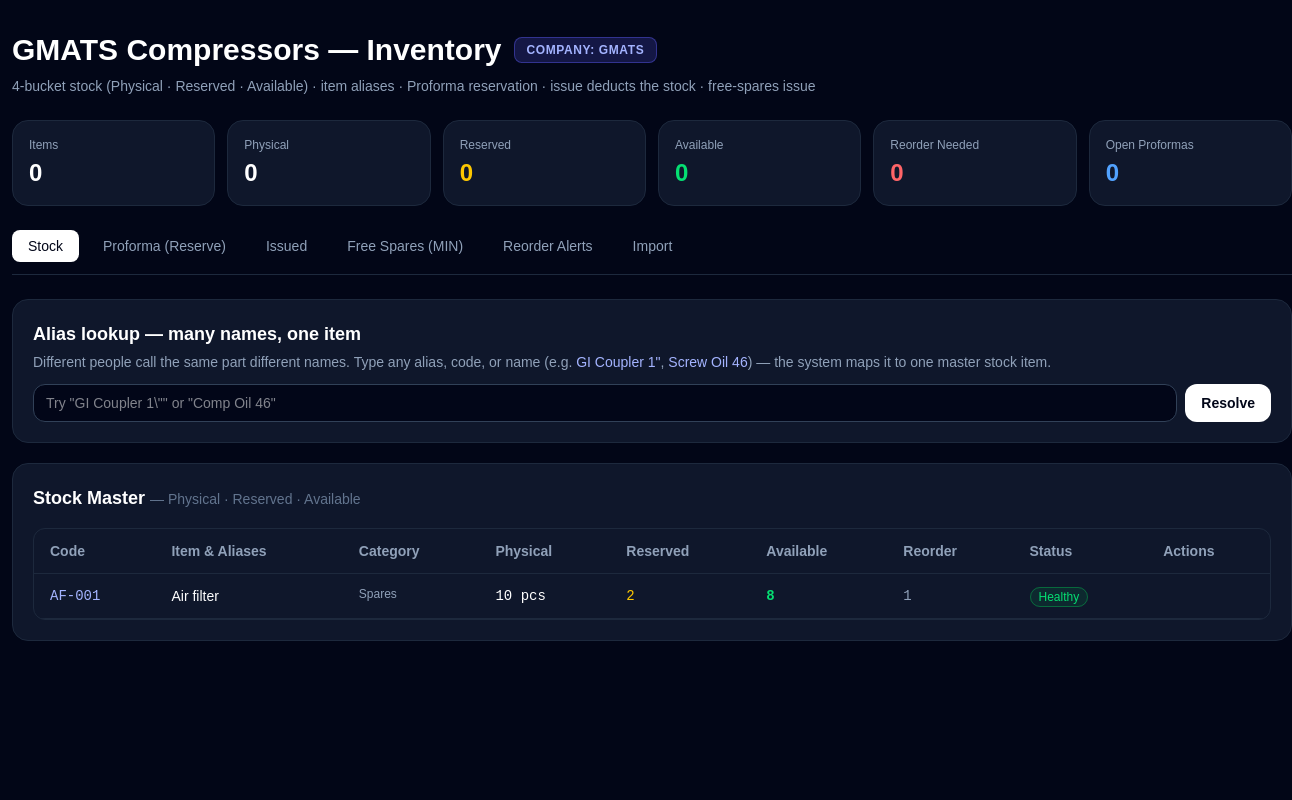
Scenario: GMATS inventory offers writes by role › offers an Operator no stock-in, proforma, issue, cancel or free-spares issue, and says who can
expect the text "Air filter" is shown: met, box x1=171 y1=588 x2=219 y2=604
Click the button "Proforma (Reserve)": [164, 246] box x1=87 y1=230 x2=242 y2=262
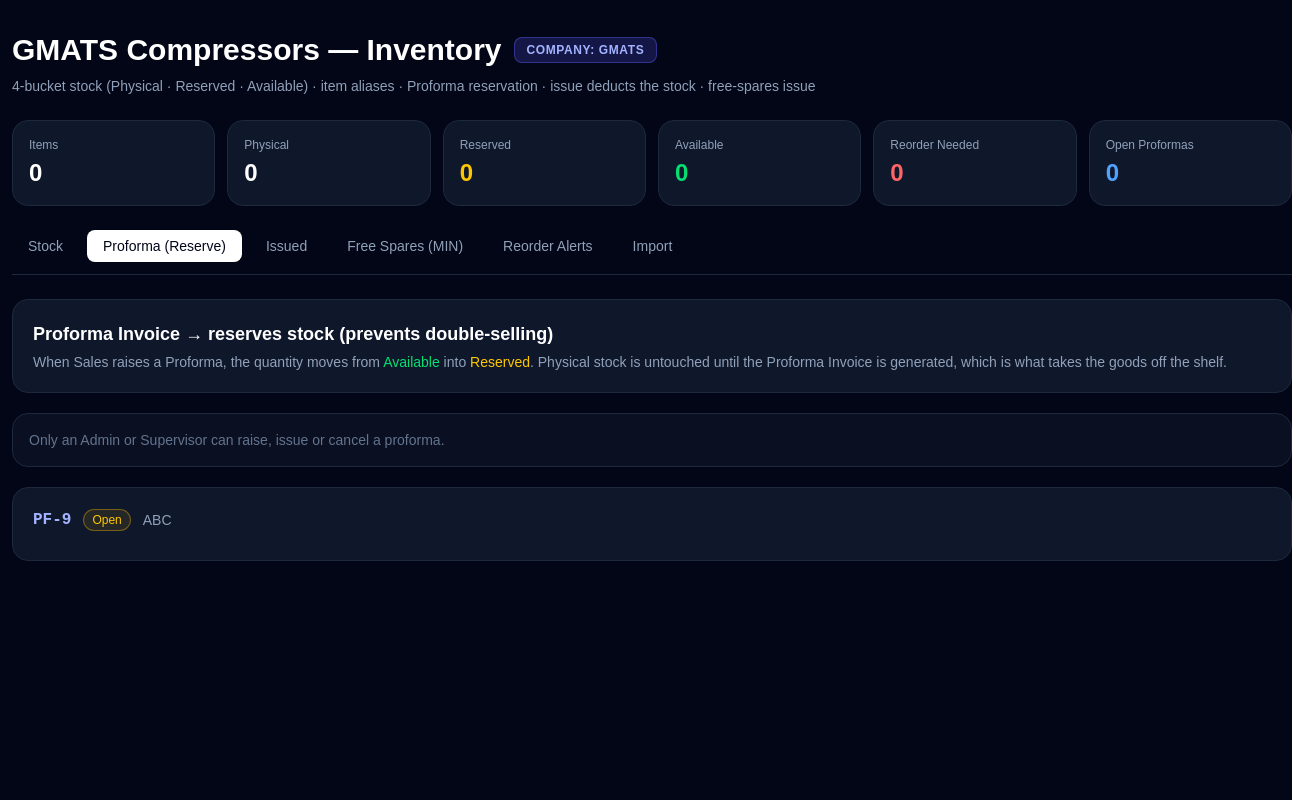
expect the text "Only an Admin or Supervisor can raise, issue or cancel a proforma." is shown: met, box x1=12 y1=413 x2=1291 y2=467
expect the text "PF-9" is shown: met, box x1=33 y1=508 x2=71 y2=532
Click the button "Free Spares (MIN)": [405, 246] box x1=331 y1=230 x2=479 y2=262
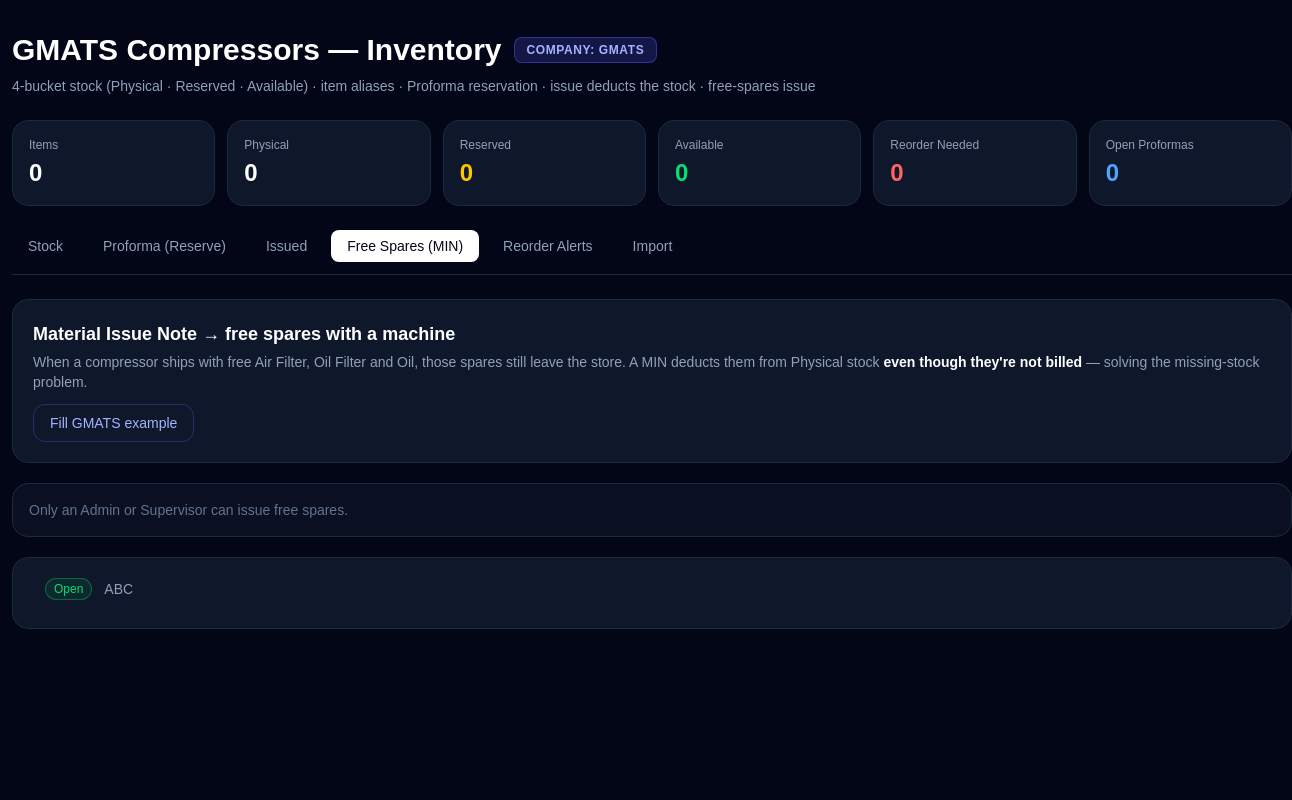
expect the text "Only an Admin or Supervisor can issue free spares." is shown: met, box x1=12 y1=483 x2=1291 y2=537
